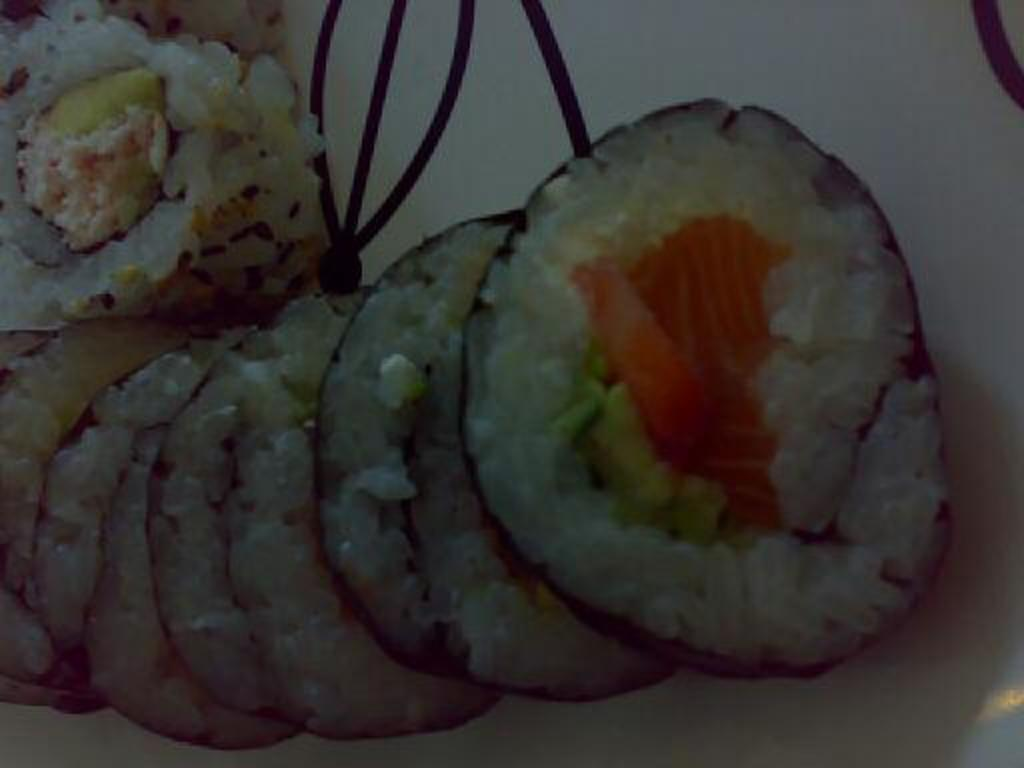sushi: (0, 6, 952, 746), (14, 20, 310, 348)
